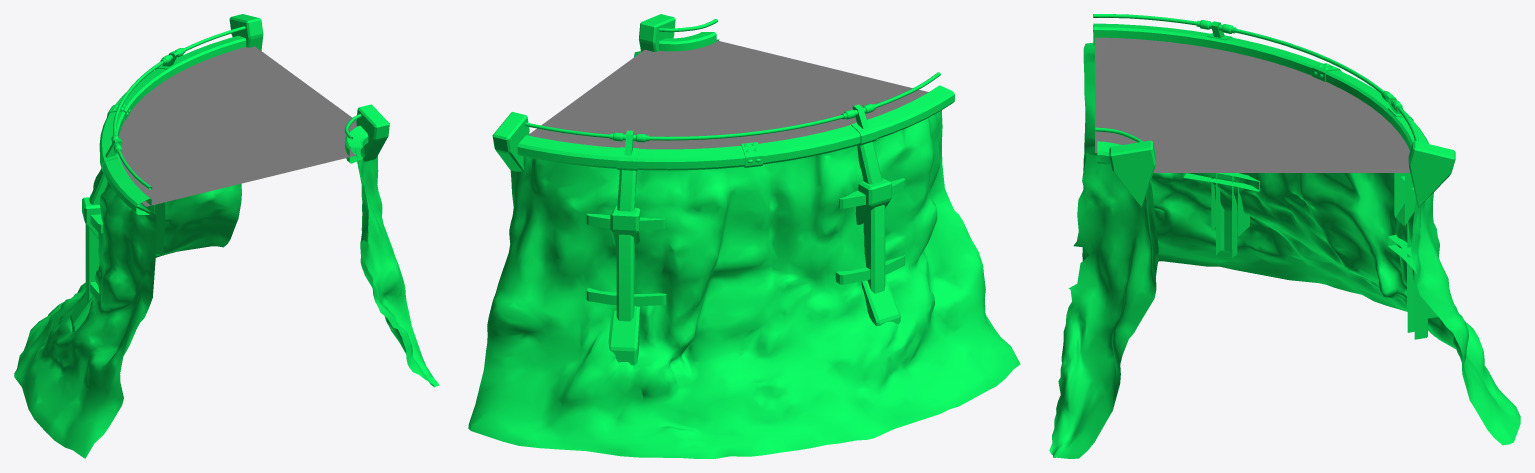
File: Track_05_L.fbx
The picture shows the model from 3 angles, left to right: view 1: azimuth 30°, elevation 25°; view 2: azimuth 150°, elevation 25°; view 3: azimuth 270°, elevation 25°; orthographic projection. The views are drawn at different scales.
Parts seen in each view (by area): view 1: Side_Rock_006, Road_006; view 2: Side_Rock_006, Road_006; view 3: Side_Rock_006, Road_006.
Boxes of the visible parts, left/top/right/bottom form: Side_Rock_006: left=14, top=14, right=439, bottom=458; Road_006: left=118, top=46, right=356, bottom=206; Side_Rock_006: left=468, top=14, right=1020, bottom=458; Road_006: left=529, top=40, right=928, bottom=149; Side_Rock_006: left=1049, top=14, right=1520, bottom=458; Road_006: left=1095, top=37, right=1410, bottom=172.
Size of what is drawn, in the model's own units: 3704 by 3766 by 2625.
